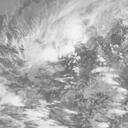cyclone: (31, 37, 86, 79)
